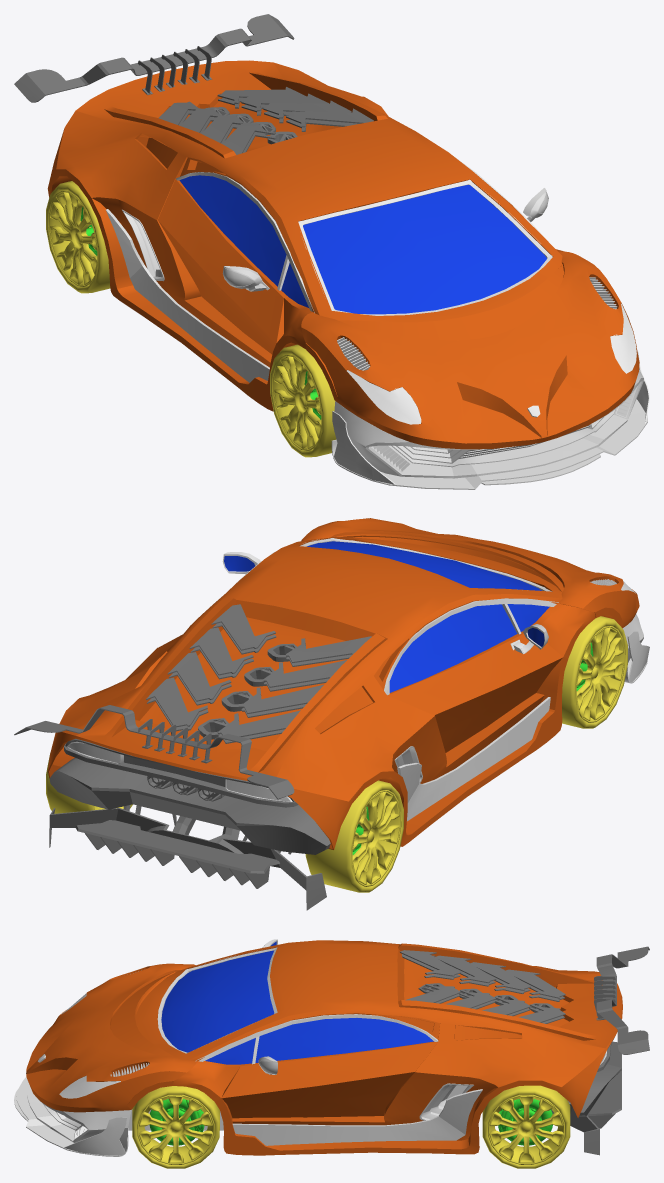
The model's file is Lambo_Retopo_Final.fbx.
3 views of the same model, one above another, from view 1: azimuth 30°, elevation 25°; view 2: azimuth 150°, elevation 25°; view 3: azimuth 270°, elevation 25° (orthographic). The views are drawn at different scales.
Visible parts, largest first — view 1: mainbody_l, Window_Glass_l, extras1_l, extras2_l, breaks_l.002, breaks_l.003, FrontLight_glass_l; view 2: mainbody_l, extras2_l, Window_Glass_l, extras1_l, breaks_l.003, breaks_l.002, Backlight_Glass_l, breaks_l; view 3: mainbody_l, Window_Glass_l, extras1_l, extras2_l, breaks_l, breaks_l.001, FrontLight_glass_l.
Boxes of the visible parts, x1,y1,x2,y2 form: mainbody_l: [47, 60, 639, 449]; Window_Glass_l: [179, 175, 546, 314]; extras1_l: [106, 159, 649, 489]; extras2_l: [14, 14, 373, 154]; breaks_l.002: [270, 344, 336, 457]; breaks_l.003: [46, 181, 110, 293]; FrontLight_glass_l: [347, 303, 636, 424]; mainbody_l: [47, 518, 639, 849]; extras2_l: [14, 604, 371, 910]; Window_Glass_l: [224, 541, 549, 692]; extras1_l: [222, 538, 649, 821]; breaks_l.003: [305, 780, 403, 892]; breaks_l.002: [562, 616, 627, 728]; Backlight_Glass_l: [69, 743, 290, 801]; breaks_l: [46, 753, 132, 813]; mainbody_l: [26, 940, 622, 1155]; Window_Glass_l: [161, 941, 433, 1064]; extras1_l: [14, 939, 482, 1156]; extras2_l: [400, 946, 649, 1155]; breaks_l: [482, 1085, 570, 1168]; breaks_l.001: [132, 1086, 219, 1168]; FrontLight_glass_l: [59, 993, 120, 1098].
Size of the model in its own units: 240 by 128 by 523.
